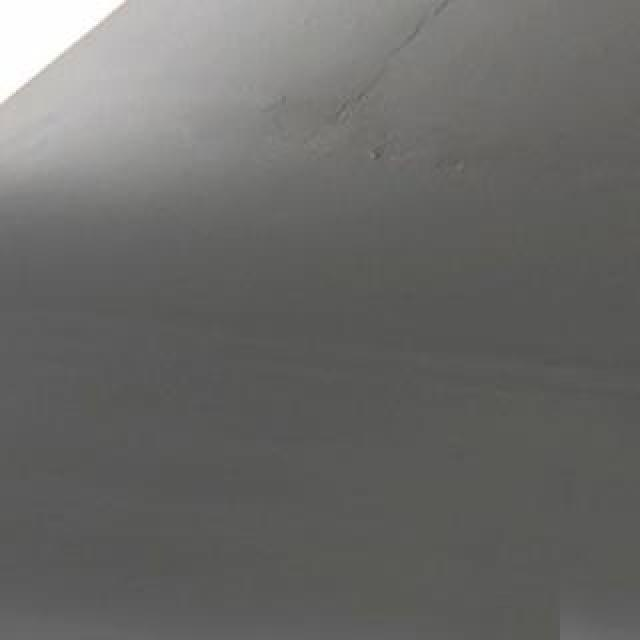fluorescent tube: (0, 0, 340, 272)
